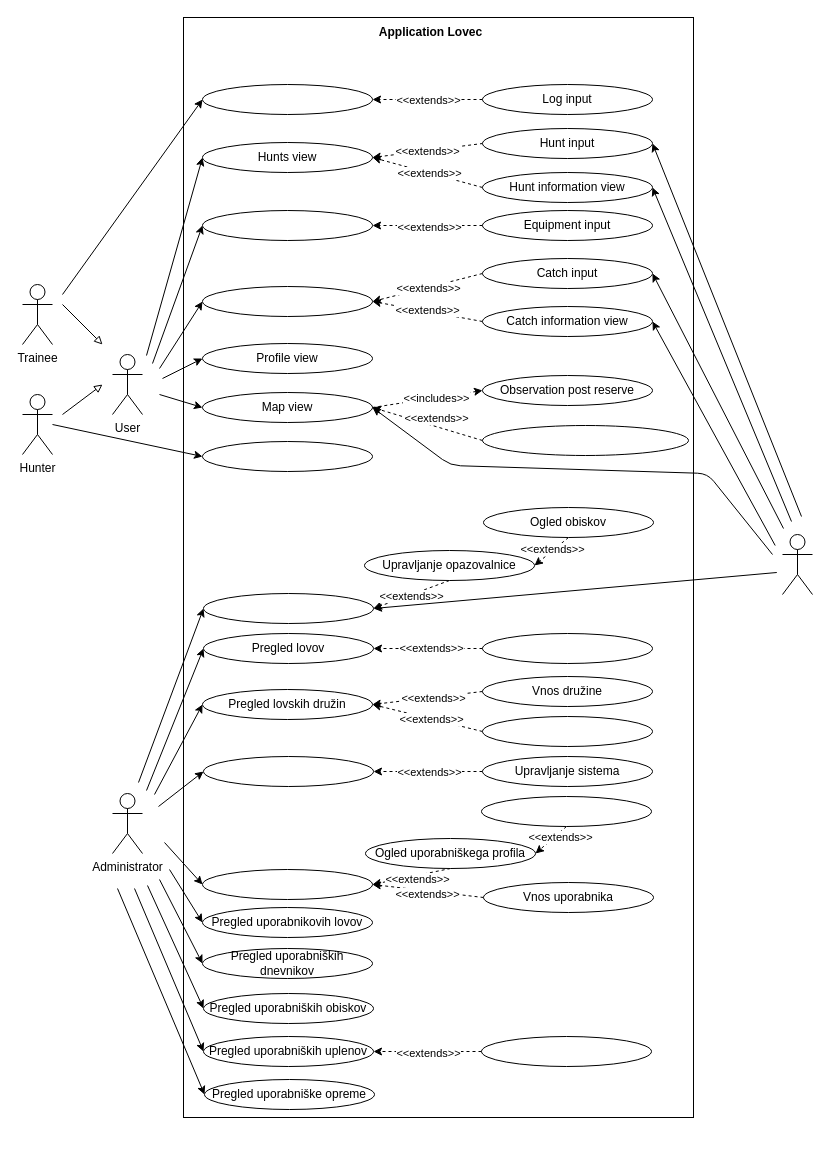
Image size: 840x1162. Some labels were removed from this diagram. The box of each missing label's shape, as (x1, y1, x2, y2) in pixels:
Catches view: (202, 286, 372, 316)
Equipment view: (202, 210, 372, 240)
Logs view: (202, 84, 372, 114)
Maps API: (782, 534, 812, 594)
Observation post information view: (482, 424, 688, 456)
Pregled podatkov o sistemu: (202, 756, 374, 786)
Pregled uporabnikov: (202, 868, 372, 900)
Pregled uporabniških podrobnosti o uplenu: (480, 1036, 652, 1066)
Pregled zamljevida: (202, 592, 374, 624)
Trainee logs view: (202, 440, 372, 472)
Upravljanje družine: (482, 716, 652, 746)
Upravljanje lova: (482, 632, 652, 664)
Ureditev uporabniškega profila: (480, 796, 652, 826)
